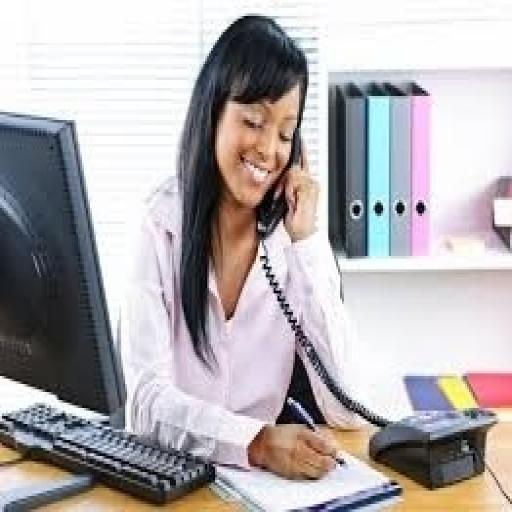calling: (117, 10, 385, 482)
